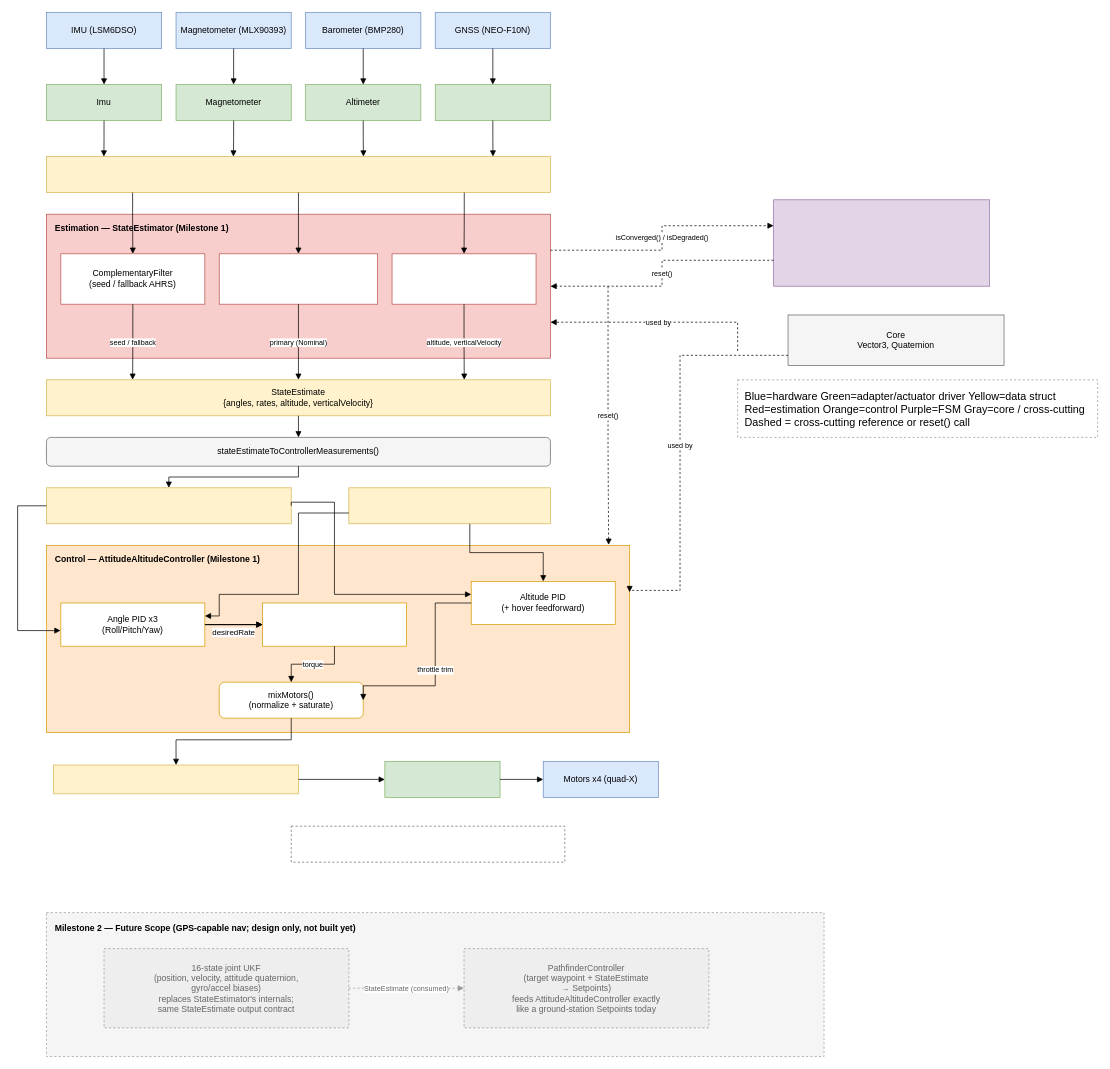
Image size: 1110x1069. Some labels were removed from this diagram. Each missing label, with the centre of its shape:
"ControllerMeasurements {angle, rate, altitude}" goes at (168,505).
"ESC / Motor Driver (PWM / DShot)" goes at (442,779).
"FlightStateMachine (arm/disarm sequence, failsafe branches, mode transitions)" goes at (881,242).
"Gnss (position/velocity: logging only in M1)" goes at (492,102).
"Madgwick Full / NoMag (primary AHRS)" goes at (298,278).
"main.cpp — fixed-rate control loop (elapsedMicros, wires everything together)" goes at (428,843).
"Motor Commands [0,1] x4" goes at (175,779).
"Rate PID x3 (Roll/Pitch/Yaw)" goes at (334,624).
"SensorReadings {accel, gyro, mag, baroAltitude, gnssPos/Vel, *Status}" goes at (298,174).
"Setpoints M1: external RC / Ground Station" goes at (449,505).
"VerticalKF (altitude, 3-state)" goes at (463,278).
